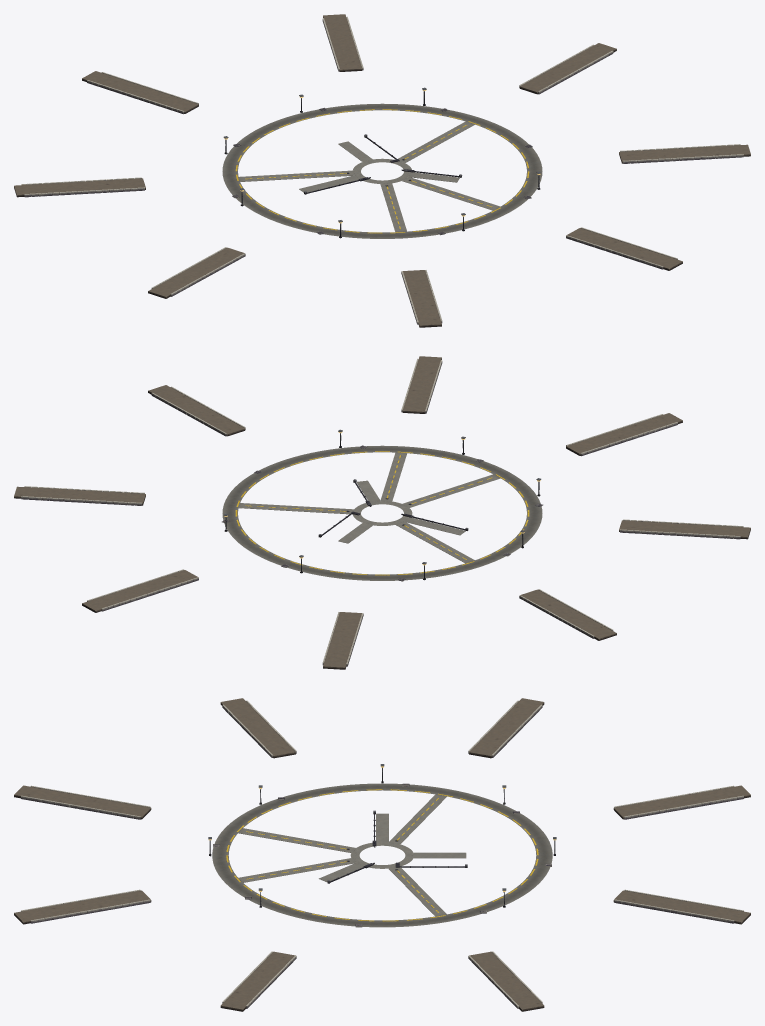
3 views of the same model, one above another, from view 1: azimuth 30°, elevation 25°; view 2: azimuth 150°, elevation 25°; view 3: azimuth 270°, elevation 25° (orthographic). The views are drawn at different scales.
Visible parts, largest first — view 1: Tracks, Walks, Kerbs, LaneMarks; view 2: Tracks, Walks, Kerbs, LaneMarks; view 3: Walks, Tracks, Kerbs, LaneMarks.
Boxes of the visible parts, bbox=[...] form: Tracks: bbox=[14, 14, 750, 327]; Walks: bbox=[222, 103, 542, 238]; Kerbs: bbox=[21, 16, 743, 324]; LaneMarks: bbox=[235, 109, 529, 233]; Tracks: bbox=[14, 356, 750, 669]; Walks: bbox=[222, 445, 542, 580]; Kerbs: bbox=[21, 358, 743, 666]; LaneMarks: bbox=[235, 451, 529, 575]; Walks: bbox=[212, 783, 552, 927]; Tracks: bbox=[14, 698, 750, 1011]; Kerbs: bbox=[21, 700, 743, 1008]; LaneMarks: bbox=[226, 789, 538, 921].
Bounding box in the file's own units: 290 × 8.04 × 290.
8 materials, 8 textured.
